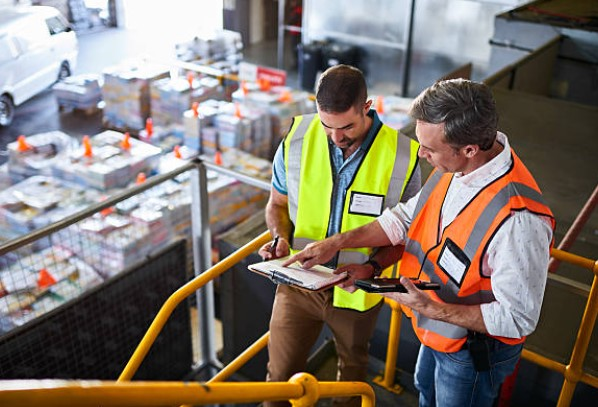worker: (404, 80, 533, 354), (284, 65, 412, 307)
